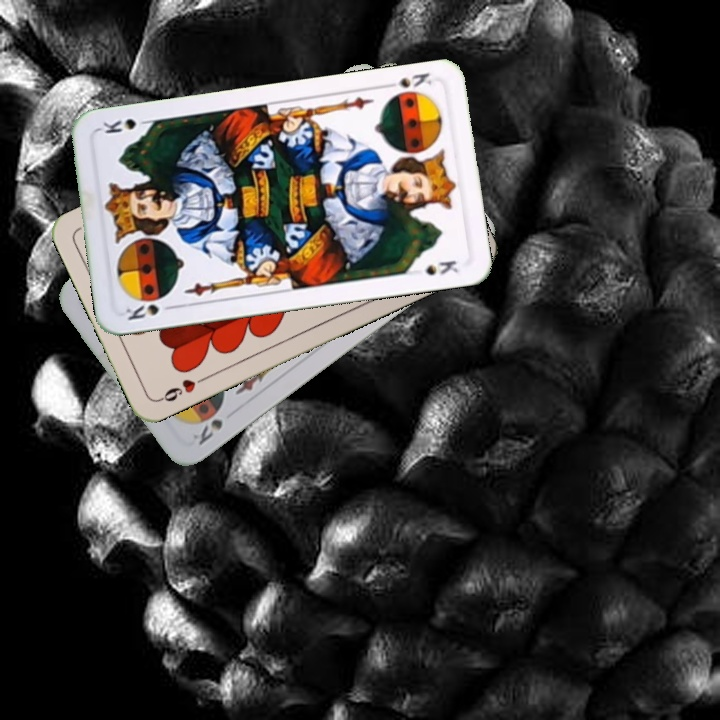H9: (155, 372, 210, 405)
SK: (121, 300, 179, 323), (380, 68, 434, 91), (194, 415, 226, 448)
